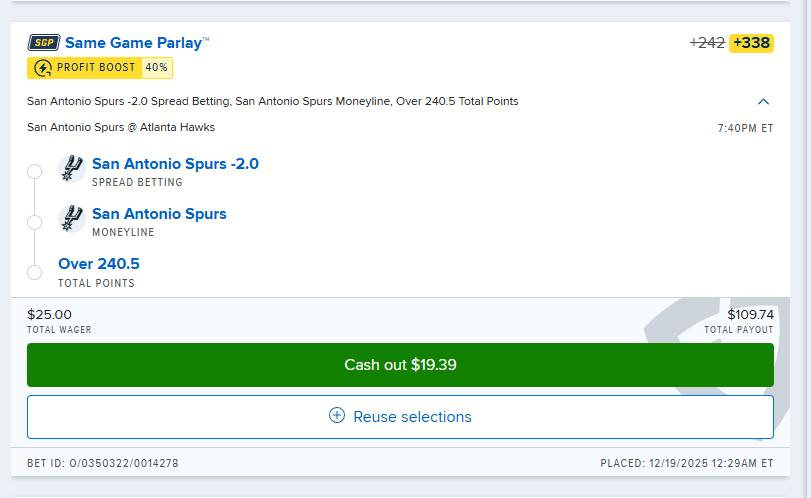game: (25, 119, 217, 136)
odds: (731, 32, 771, 52)
payout: (725, 305, 776, 323)
wager: (24, 304, 74, 323)
